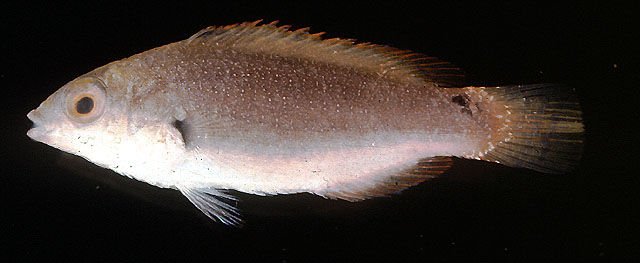fish: (28, 20, 583, 226)
